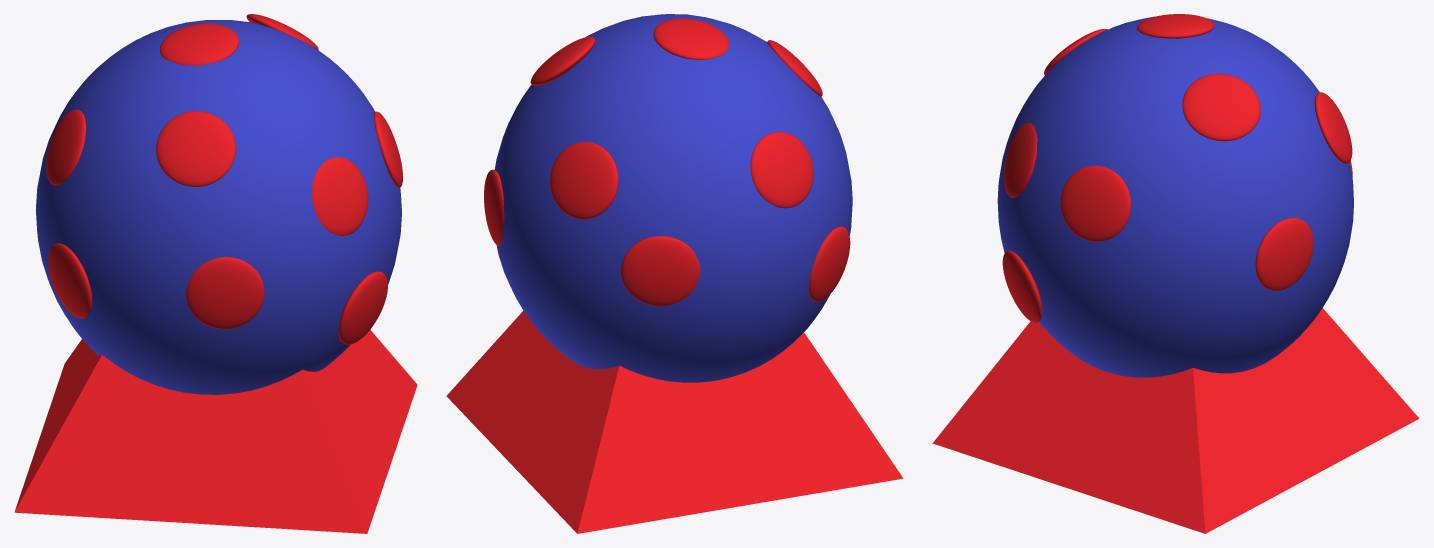
The model's file is disco.fbx.
3 renders of one model, left to right at view 1: azimuth 30°, elevation 25°; view 2: azimuth 150°, elevation 25°; view 3: azimuth 270°, elevation 25°, orthographic. The views are drawn at different scales.
Parts seen in each view (by area): view 1: root (×13); view 2: root (×10); view 3: root (×11).
Part boxes in pixels (x1,y1,x2,y2): root (×13): [14, 14, 417, 533]; root (×10): [446, 14, 903, 533]; root (×11): [932, 14, 1419, 533].
Bounding box in the file's own units: 0.2861 × 0.2631 × 0.2861.
